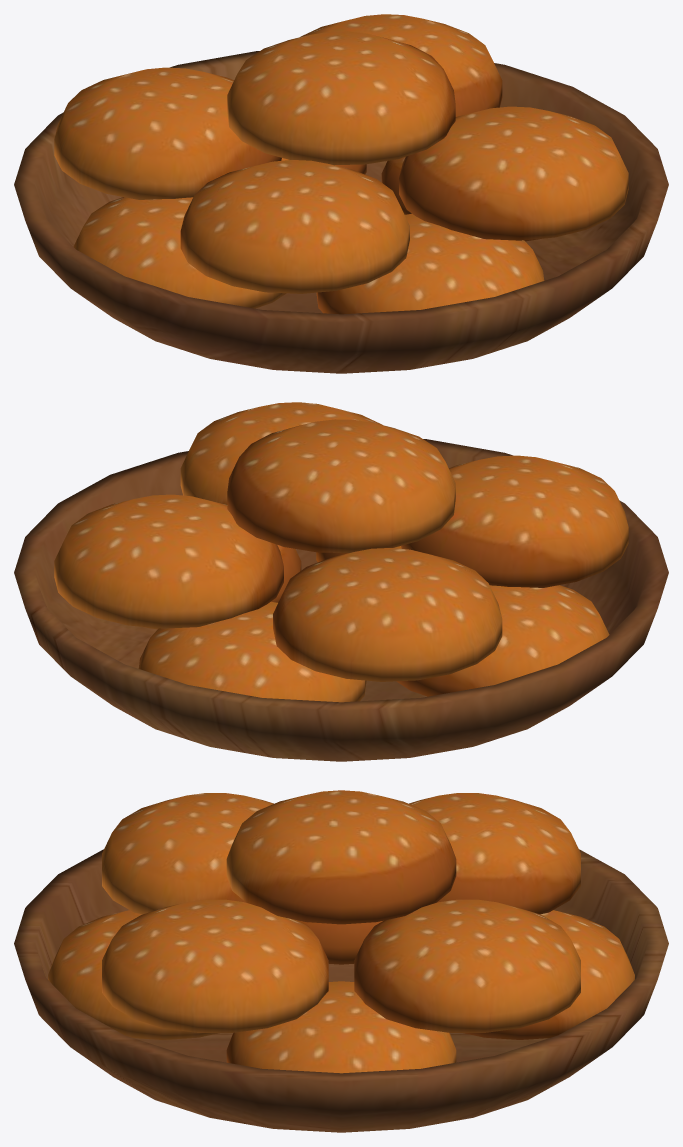
Rendered from BunTopDisplay.glb.
The picture shows the model from 3 angles, top to bottom: view 1: azimuth 30°, elevation 25°; view 2: azimuth 150°, elevation 25°; view 3: azimuth 270°, elevation 25°; orthographic projection.
Parts seen in each view (by area): view 1: BunTopDisplay; view 2: BunTopDisplay; view 3: BunTopDisplay.
Boxes of the visible parts, x1,y1,x2,y2 form: BunTopDisplay: (14, 14, 668, 373); BunTopDisplay: (14, 402, 668, 761); BunTopDisplay: (14, 790, 668, 1132).
Size of what is drawn, in the model's own units: 1.25 by 0.4419 by 1.25.
2 materials, 2 textured.
